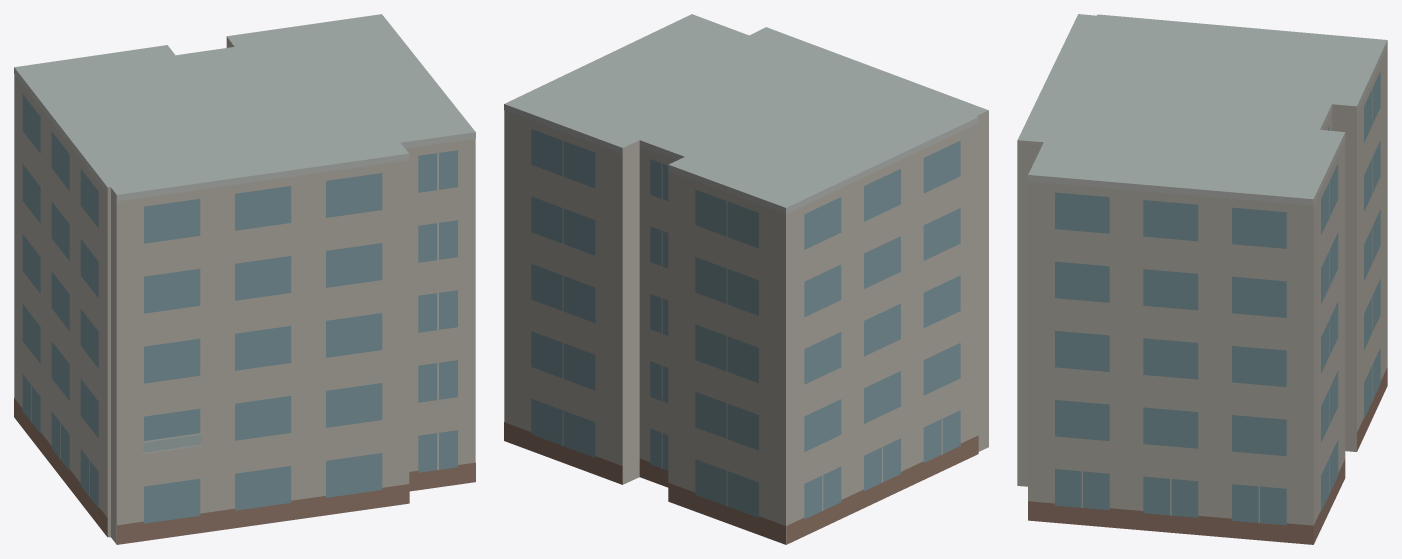
Rendered from survey-upis-33026158.glb.
3 views of the same model, side by side, from view 1: azimuth 30°, elevation 25°; view 2: azimuth 150°, elevation 25°; view 3: azimuth 270°, elevation 25° (orthographic). The views are drawn at different scales.
Visible parts, largest first — view 1: survey-upis-33026158.tmp; view 2: survey-upis-33026158.tmp; view 3: survey-upis-33026158.tmp.
Part boxes in pixels (<box>): survey-upis-33026158.tmp: <box>14,14,475,544</box>; survey-upis-33026158.tmp: <box>504,14,988,544</box>; survey-upis-33026158.tmp: <box>1017,14,1387,544</box>.
Bounding box in the file's own units: 15.06 × 13.1 × 12.72.
